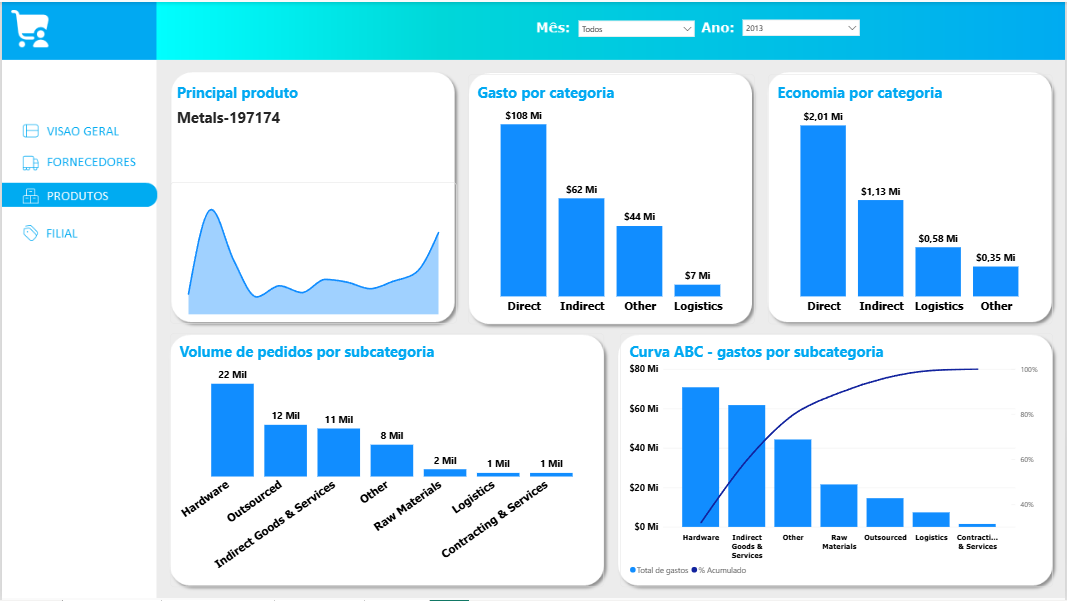

The page's visual inventory and layout, read from the dashboard file:
{"tool":"powerbi","page":{"name":"Produtos","canvas":[1920,1080],"ordinal":2},"visuals":[{"type":"clusteredColumnChart","title":"Gasto por categoria","fields":{"Y":["_metricas.Total de gastos"],"Category":["d_Item.Category"]},"box":[840.9,130.4,517.8,451.7],"z":0},{"type":"clusteredColumnChart","title":"Economia por categoria","fields":{"Y":["_metricas.Total economizado"],"Category":["d_Item.Category"]},"box":[1383.3,130.4,514,451.7],"z":1000},{"type":"clusteredColumnChart","title":"Volume de pedidos por subcategoria","fields":{"Category":["d_Item.Sub Category"],"Y":["_metricas.Total de pedidos"]},"box":[303.5,597.2,784.4,459.2],"z":2000},{"type":"lineClusteredColumnComboChart","title":"Curva ABC - gastos por subcategoria","fields":{"Y":["_metricas.Total de gastos"],"Category":["d_Item.Sub Category"],"Y2":["_metricas.% Acumulado"]},"box":[1115.5,597.2,782.4,459.2],"z":3000},{"type":"cardVisual","title":"Produto com maior gasto","fields":{"Data":["_metricas.Principal produto"]},"box":[303.5,132,518.3,193.1],"z":4000},{"type":"areaChart","fields":{"Category":["d_calendario.Mon"],"Y":["_metricas.Gasto médio por pedido"]},"box":[303.5,325.2,518.3,256.2],"z":5000},{"type":"slicer","fields":{"Values":["d_calendario.Month"]},"box":[1037.5,28.3,219.2,39.7],"z":6000},{"type":"slicer","fields":{"Values":["d_calendario.Year"]},"box":[1332.3,27.6,220.7,41.4],"z":7000},{"type":"actionButton","box":[0,208.9,281.8,45.3],"z":8000},{"type":"actionButton","box":[0,266.1,281.8,45.3],"z":9000},{"type":"actionButton","box":[0,394.2,281.8,45.3],"z":10000}]}

Visuals, with their boxes on the page's 1920x1080 design canvas (x1, y1, x2, y2). These are canvas units, not pixel positions in the 1067x601 screenshot, which may show the page scaled, cropped or inside an application window:
"Gasto por categoria" clusteredColumnChart: [left=841, top=130, right=1359, bottom=582]
"Economia por categoria" clusteredColumnChart: [left=1383, top=130, right=1897, bottom=582]
"Volume de pedidos por subcategoria" clusteredColumnChart: [left=304, top=597, right=1088, bottom=1056]
"Curva ABC - gastos por subcategoria" lineClusteredColumnComboChart: [left=1116, top=597, right=1898, bottom=1056]
"Produto com maior gasto" cardVisual: [left=304, top=132, right=822, bottom=325]
areaChart - d_calendario.Mon x _metricas.Gasto médio por pedido: [left=304, top=325, right=822, bottom=581]
slicer - d_calendario.Month: [left=1038, top=28, right=1257, bottom=68]
slicer - d_calendario.Year: [left=1332, top=28, right=1553, bottom=69]
actionButton: [left=0, top=209, right=282, bottom=254]
actionButton: [left=0, top=266, right=282, bottom=311]
actionButton: [left=0, top=394, right=282, bottom=440]
